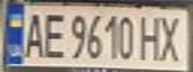0: (118, 11, 139, 61)
1: (103, 11, 121, 61)
6: (84, 11, 106, 60)
9: (66, 10, 87, 60)
A: (21, 9, 48, 60)
E: (39, 10, 69, 60)
H: (136, 11, 166, 62)
X: (154, 11, 187, 63)
